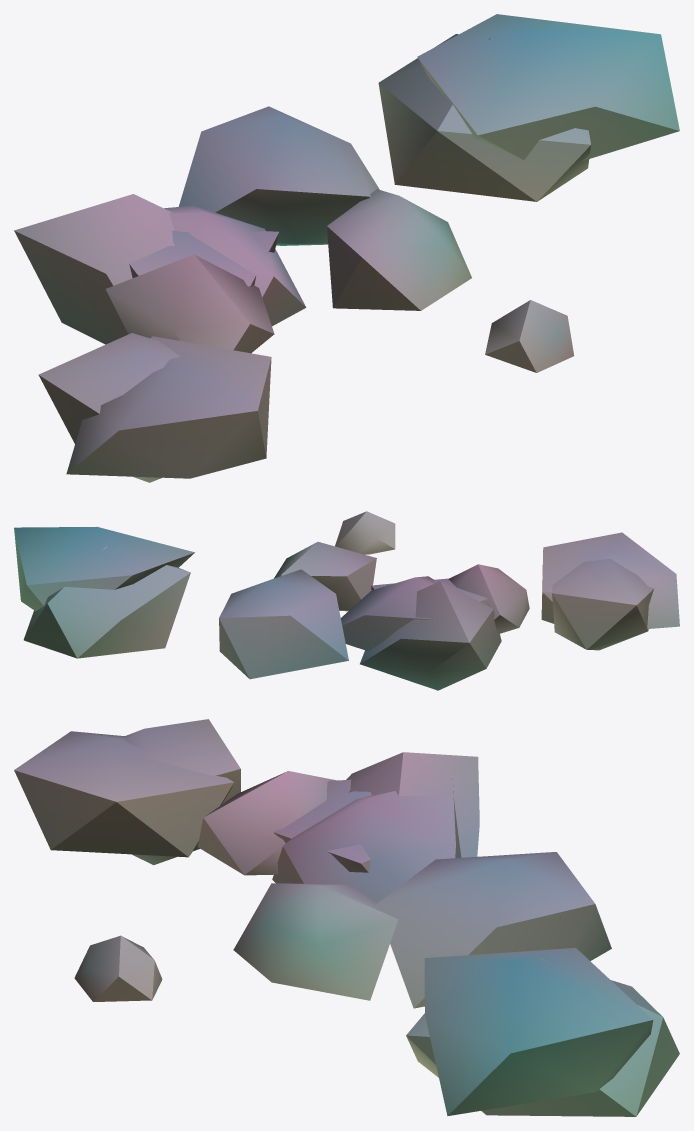
File: rubble_m.glb
The picture shows the model from 3 angles, top to bottom: view 1: azimuth 30°, elevation 25°; view 2: azimuth 150°, elevation 25°; view 3: azimuth 270°, elevation 25°; orthographic projection. The views are drawn at different scales.
Visible parts, largest first — view 1: rubble_m; view 2: rubble_m; view 3: rubble_m.
Boxes of the visible parts, x1,y1,x2,y2 form: rubble_m: (14, 14, 679, 482); rubble_m: (14, 511, 679, 690); rubble_m: (14, 719, 679, 1116).
Size of the model in its own units: 2.63 by 0.5695 by 1.94.
